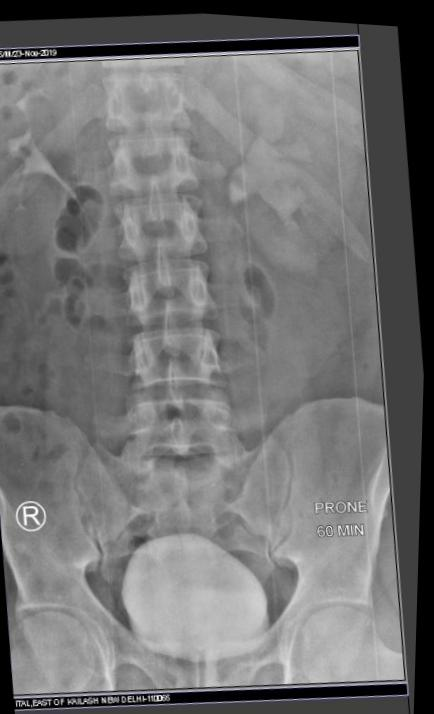bladder: (126, 531, 324, 711)
left kidney: (252, 30, 419, 280)
vertebrae: (120, 94, 231, 176)
